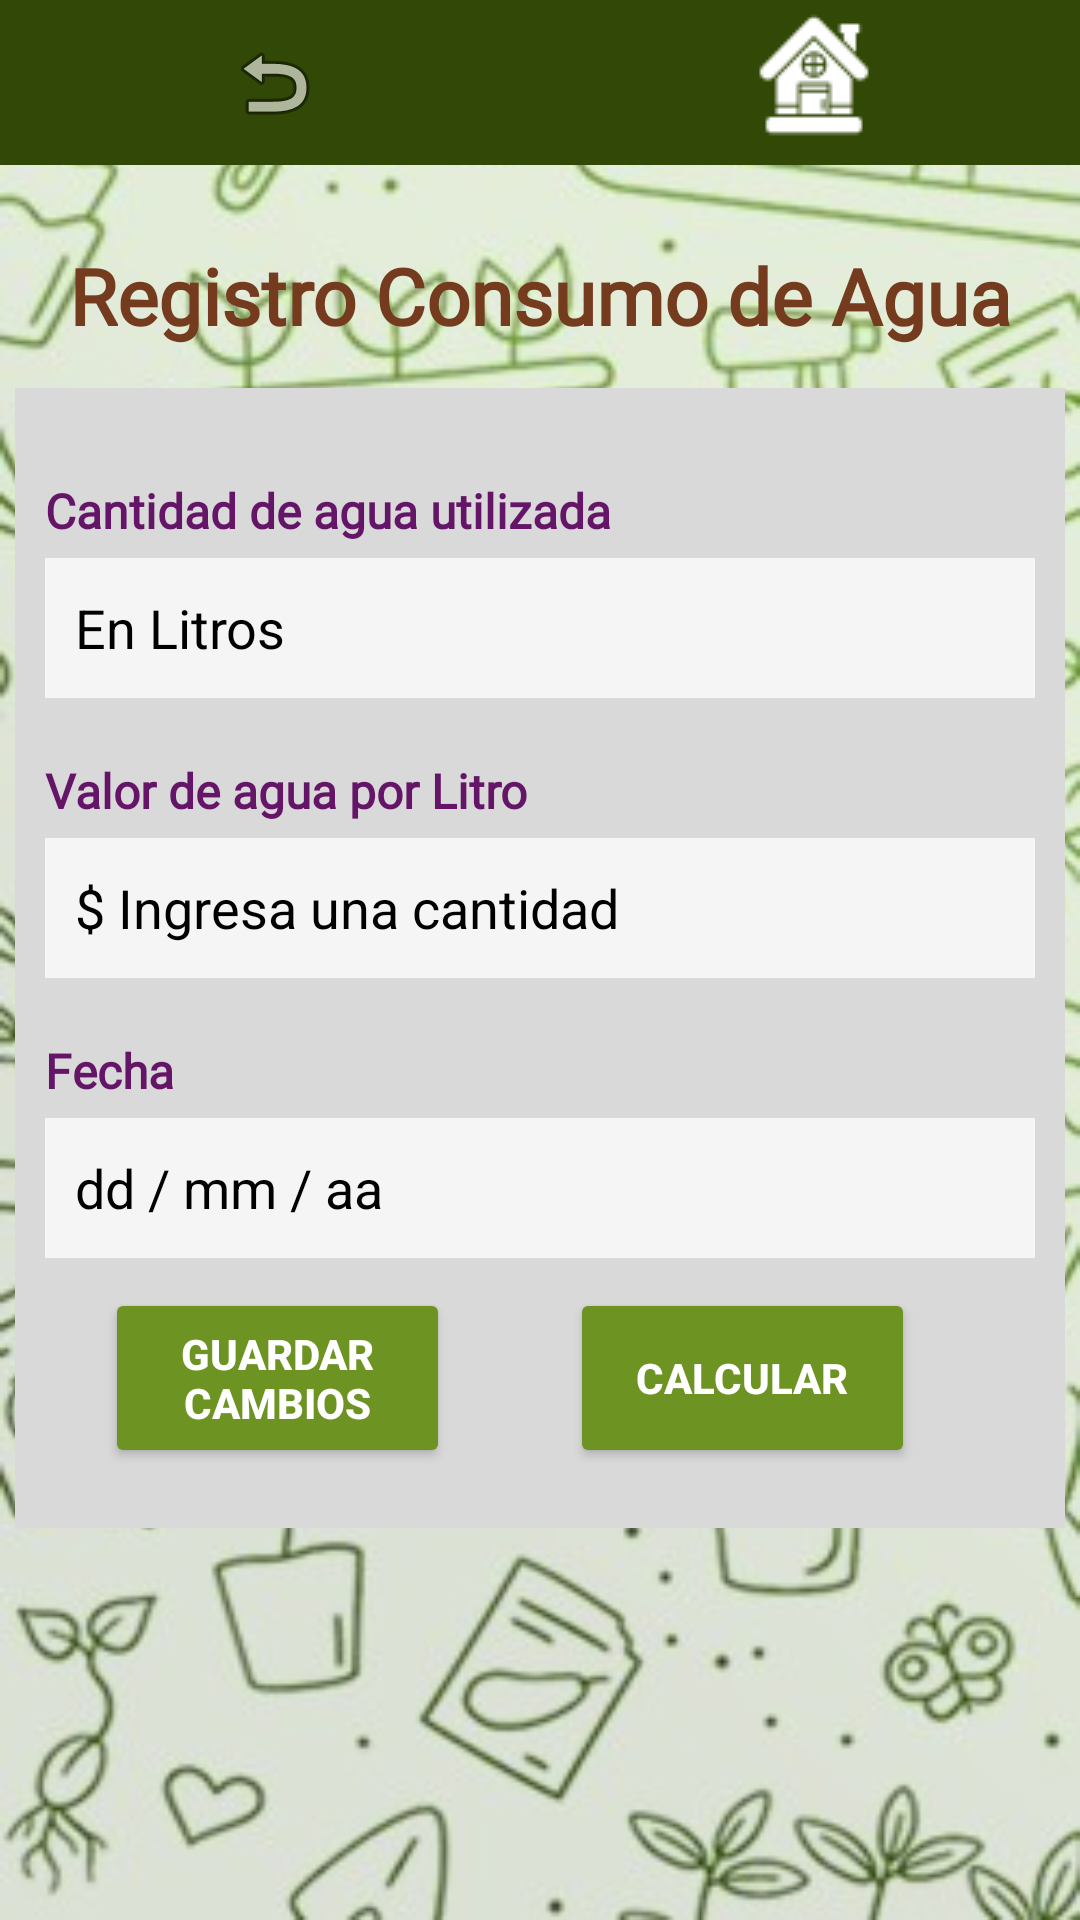

Where icons sit on this 1080px×1920px app screen, as bbox=[x1, y1, x2, y2]:
Home: bbox=[759, 15, 869, 135]
